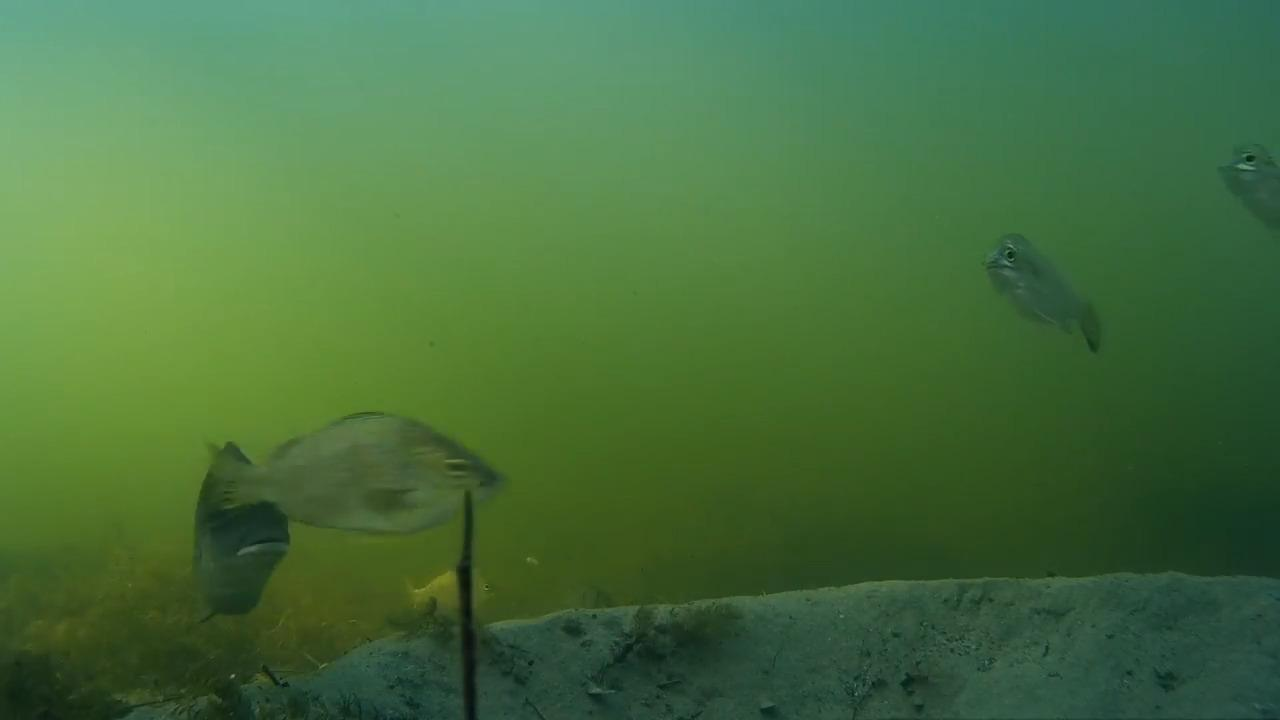Tilapia: (208, 422, 511, 556), (169, 442, 296, 636), (979, 226, 1116, 366), (1197, 130, 1280, 222)
